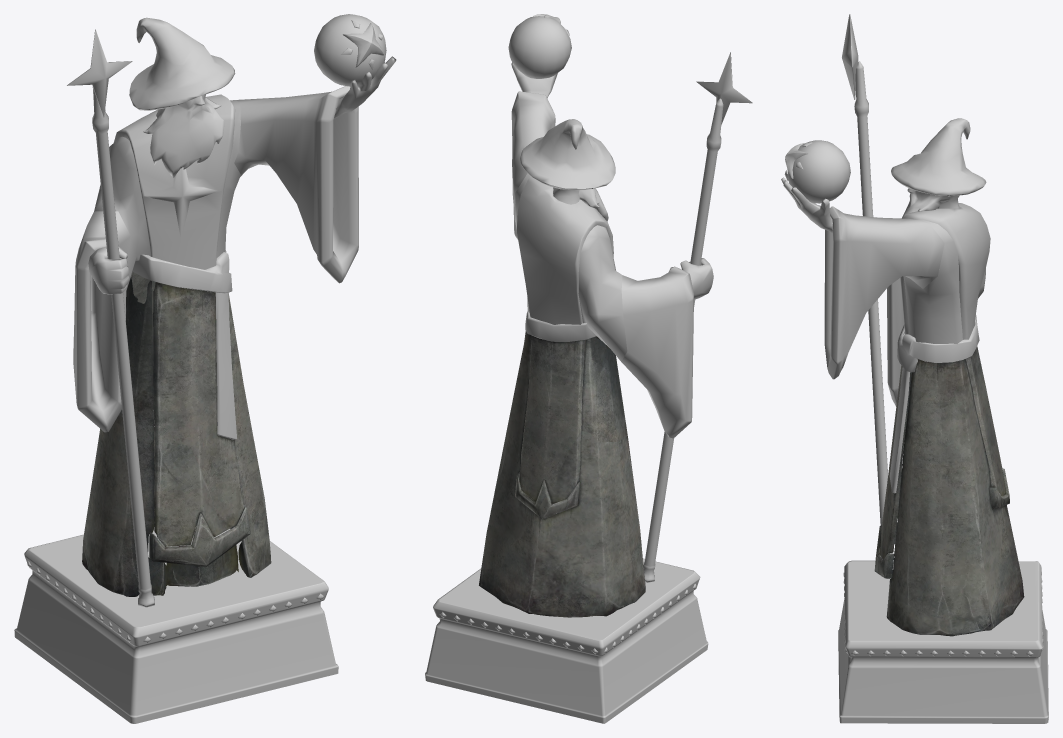
The picture shows the model from 3 angles, left to right: view 1: azimuth 30°, elevation 25°; view 2: azimuth 150°, elevation 25°; view 3: azimuth 270°, elevation 25°; orthographic projection. The views are drawn at different scales.
Visible parts, largest first — view 1: SM_SaradominTemple_Statue_01_v3_LOD0; view 2: SM_SaradominTemple_Statue_01_v3_LOD0; view 3: SM_SaradominTemple_Statue_01_v3_LOD0.
Boxes of the visible parts, x1,y1,x2,y2 form: SM_SaradominTemple_Statue_01_v3_LOD0: (14, 14, 396, 723); SM_SaradominTemple_Statue_01_v3_LOD0: (425, 14, 752, 723); SM_SaradominTemple_Statue_01_v3_LOD0: (781, 14, 1048, 723).
Size of the model in its own units: 2.86 by 6.46 by 2.58.
